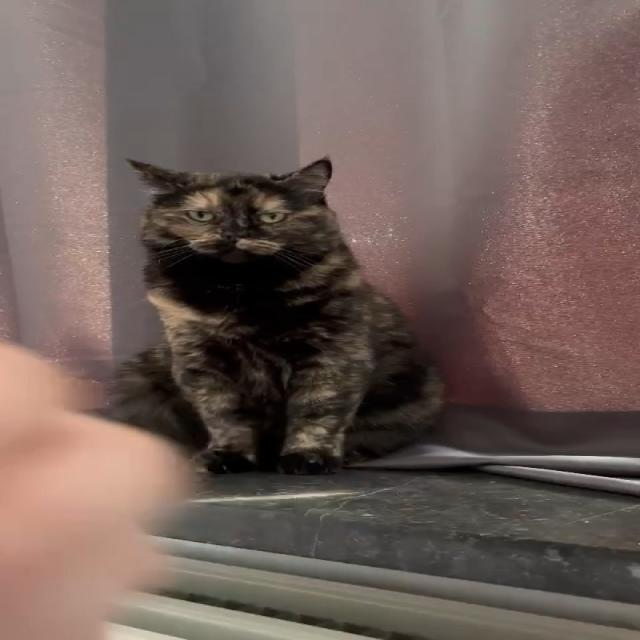authorized: (104, 154, 447, 475)
